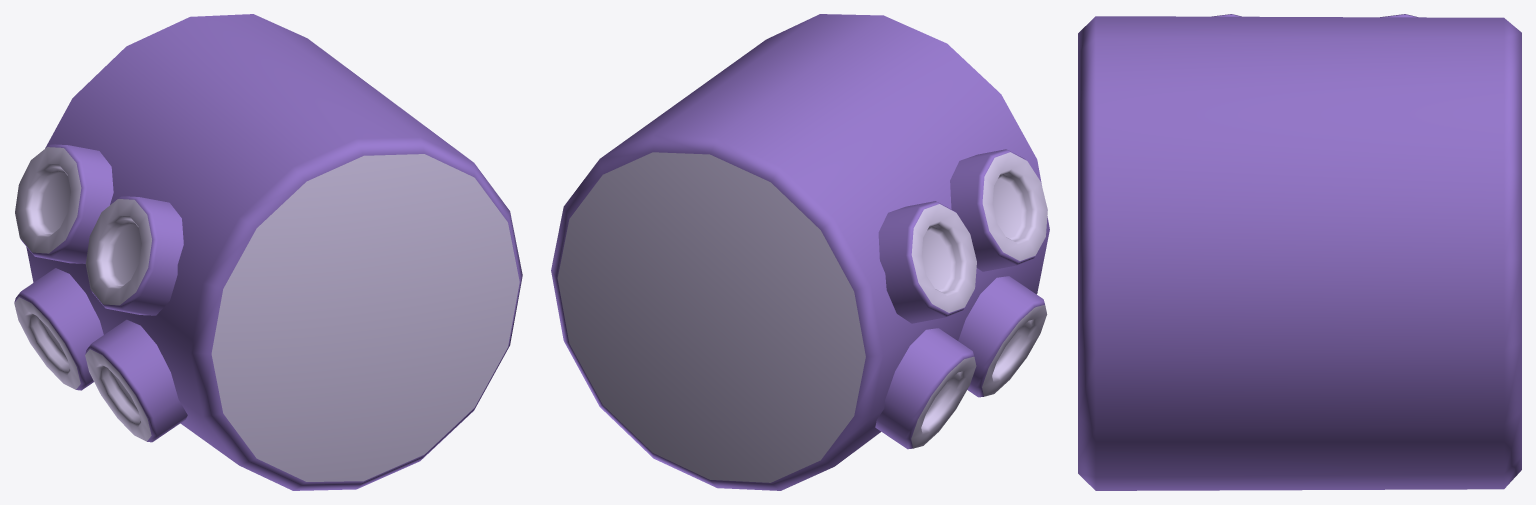
The model's file is Octopus_Tentacles_2_Slice_1.fbx.
3 views of the same model, side by side, from view 1: azimuth 30°, elevation 25°; view 2: azimuth 150°, elevation 25°; view 3: azimuth 270°, elevation 25° (orthographic). The views are drawn at different scales.
Parts seen in each view (by area): view 1: Octopus_Tentacles_2_Slice_1; view 2: Octopus_Tentacles_2_Slice_1; view 3: Octopus_Tentacles_2_Slice_1.
Part boxes in pixels (x1=…): Octopus_Tentacles_2_Slice_1: x1=14, y1=14, x2=522, y2=490; Octopus_Tentacles_2_Slice_1: x1=551, y1=14, x2=1049, y2=490; Octopus_Tentacles_2_Slice_1: x1=1078, y1=14, x2=1521, y2=490.
Bounding box in the file's own units: 10.27 × 9.33 × 8.73.
